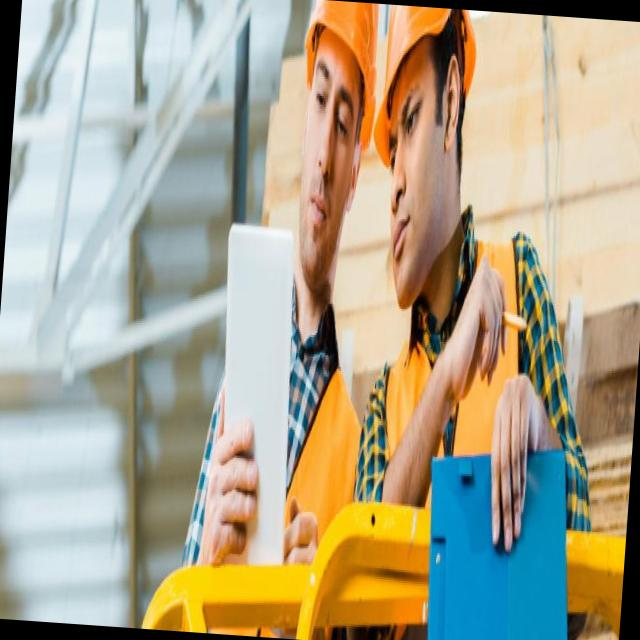Helmet: (370, 8, 480, 168), (283, 0, 384, 146)
Vest: (195, 248, 375, 540), (364, 222, 538, 466)
